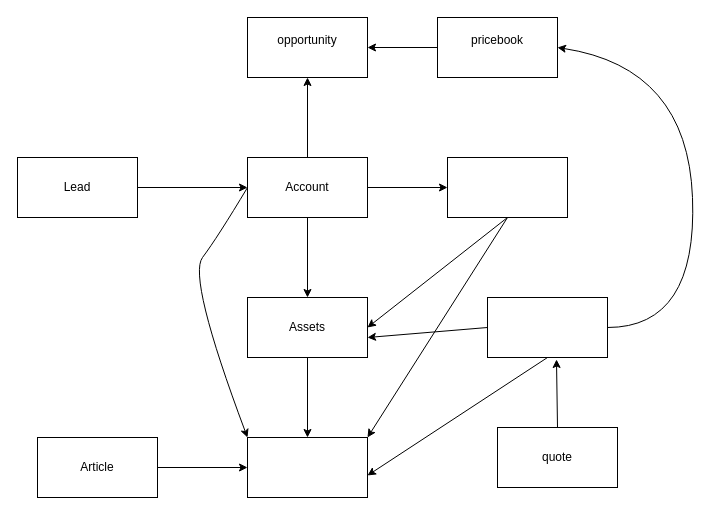
Some shapes in this 711 by 515 pixel diagram are drawn without their labels. Each missing label, with the centre of its shape:
Case: the point at 307,467
Contact: the point at 507,187
Product: the point at 547,327
